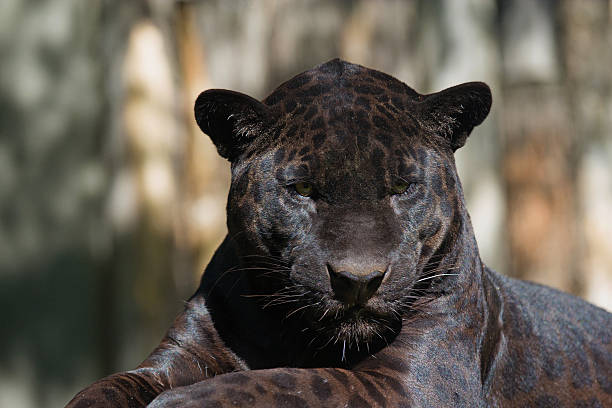panther: (167, 42, 523, 363)
